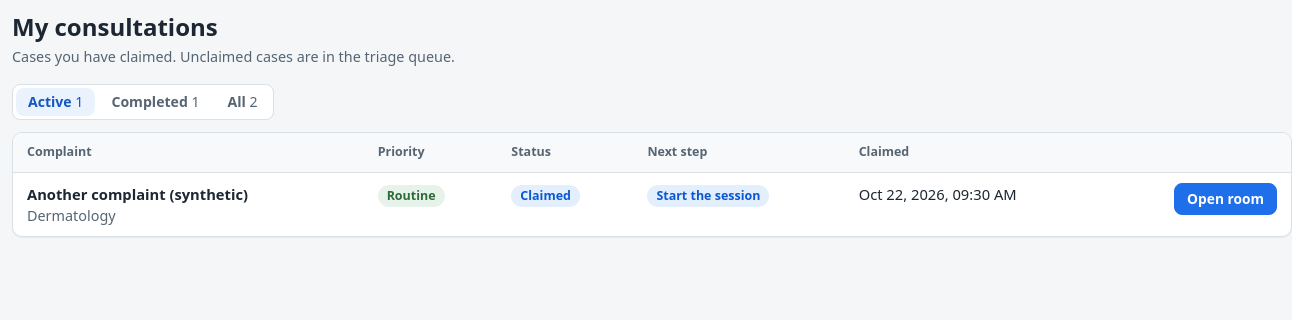
MyConsultations (clinician) › lists active cases by default, and finished ones under Completed
This screenshot has width=1292, height=320.
Expected: the number of links "Open room" is 1, [1174,183,1277,215]
Click the button "Completed 1" at (155,102), box [99,88,212,116]
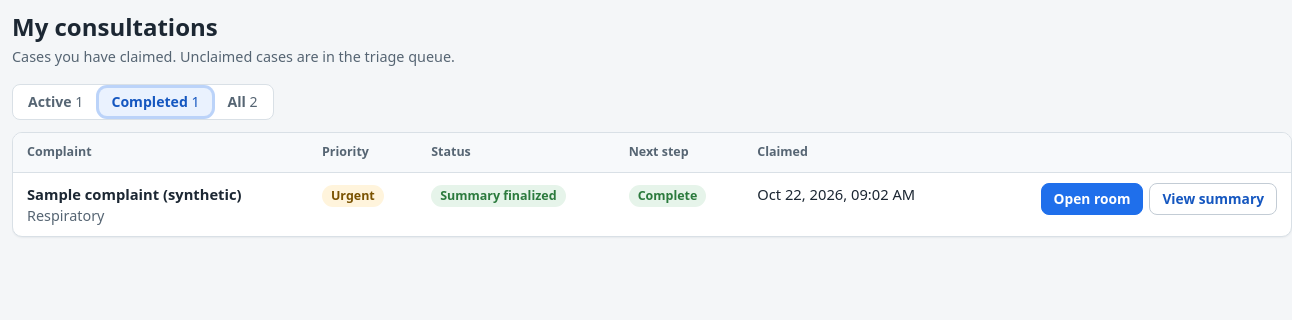
Expected: the number of links "View summary" is 1, [1149,183,1277,215]
Click the button "All 2" at (242,102), box [216,88,270,116]
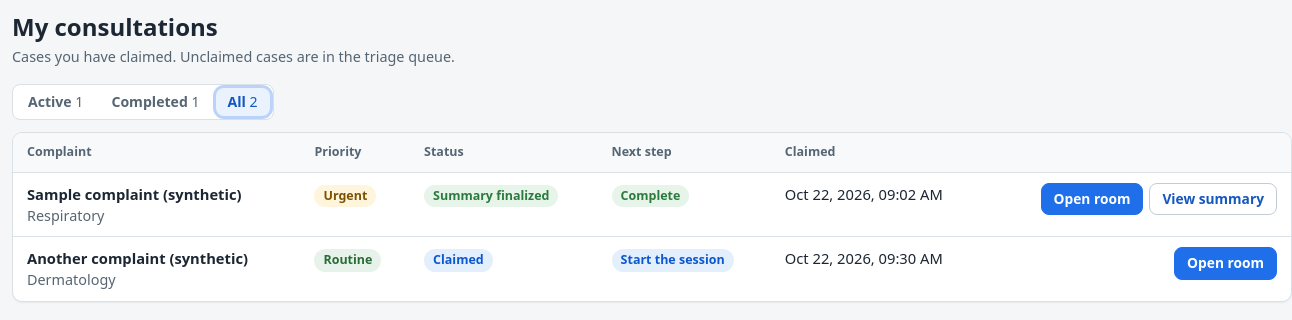
Expected: the number of links "Open room" is 2, [1040,183,1143,215]; [1174,247,1277,280]
